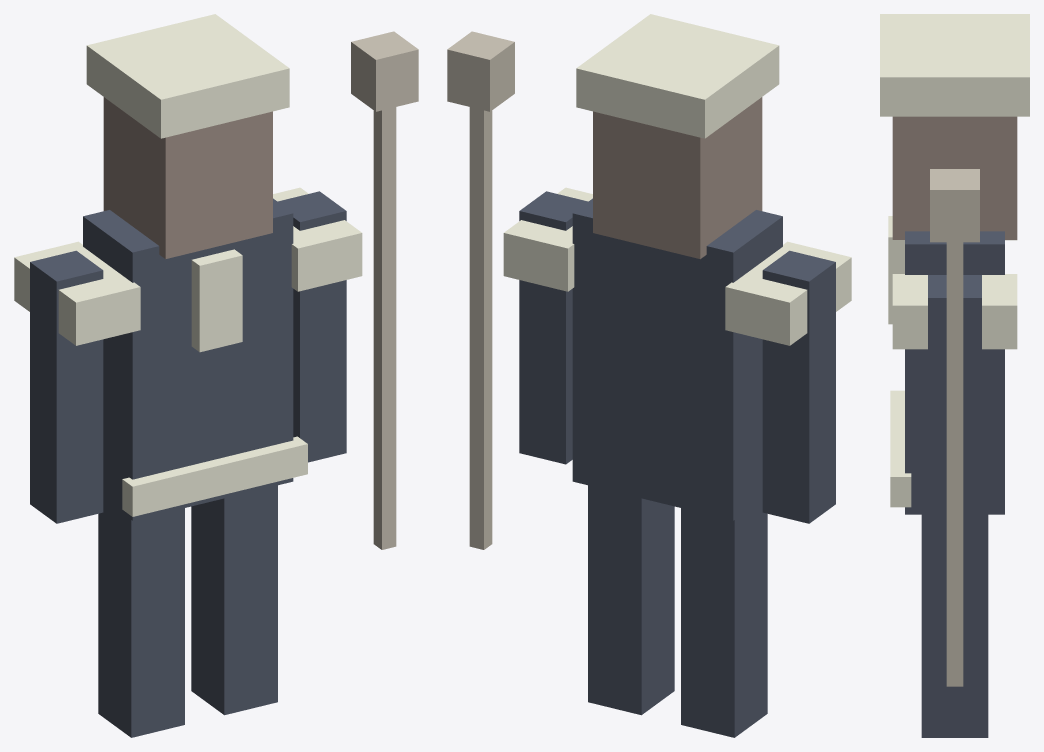
Rendered from 11_ilyra_skyharrow_specialist_under_central.glb.
3 views of the same model, side by side, from view 1: azimuth 30°, elevation 25°; view 2: azimuth 150°, elevation 25°; view 3: azimuth 270°, elevation 25° (orthographic).
Parts seen in each view (by area): view 1: Ilyra Skyharrow, Specialist under Central; view 2: Ilyra Skyharrow, Specialist under Central; view 3: Ilyra Skyharrow, Specialist under Central.
Part boxes in pixels (box(x1,y1,x2,y2)): Ilyra Skyharrow, Specialist under Central: box(14, 14, 418, 737); Ilyra Skyharrow, Specialist under Central: box(447, 14, 851, 737); Ilyra Skyharrow, Specialist under Central: box(880, 14, 1029, 737).
Size of the model in its own units: 0.976 by 1.67 by 0.3462.
